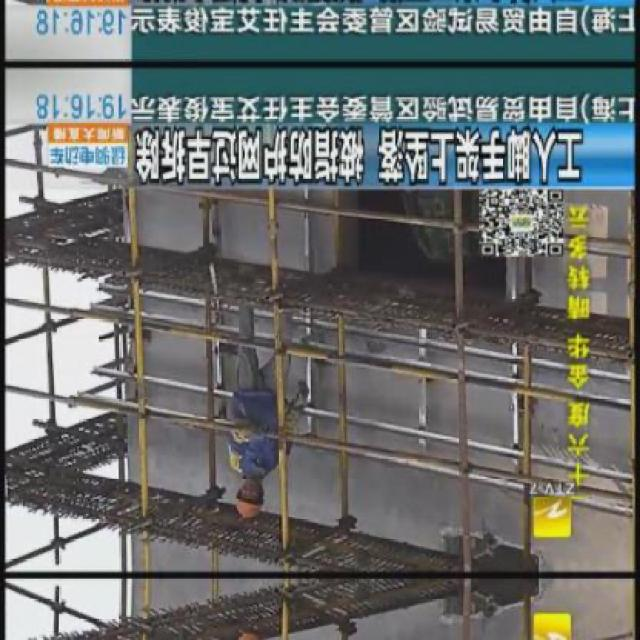con casco: (198, 436, 308, 530)
